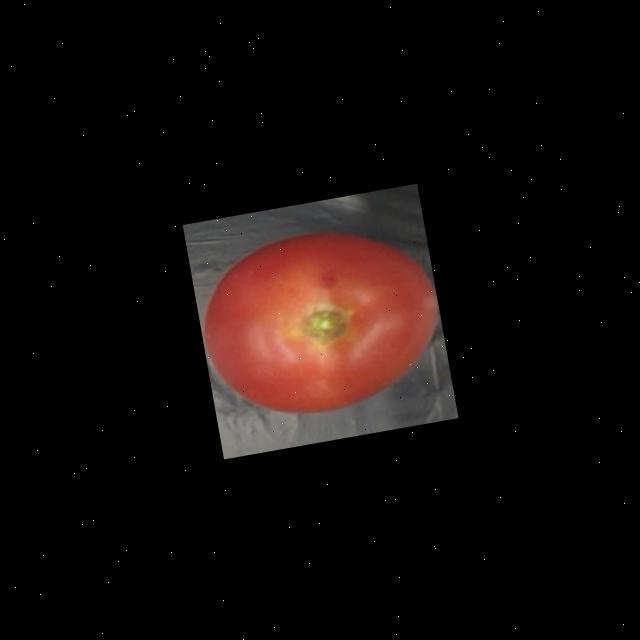tomato: (187, 209, 454, 434)
